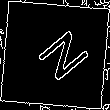N_SW: (22, 23, 88, 87)
